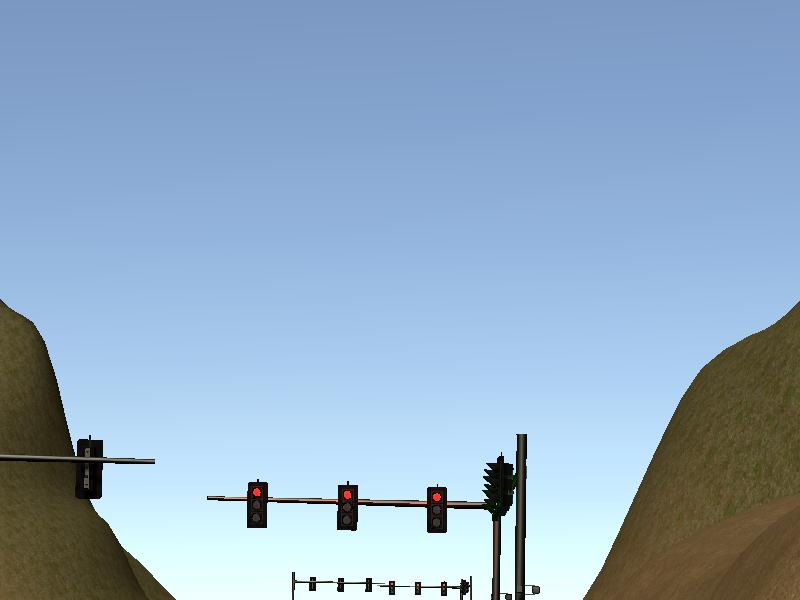Red: (245, 481, 270, 528), (337, 483, 358, 531), (427, 486, 447, 533)
